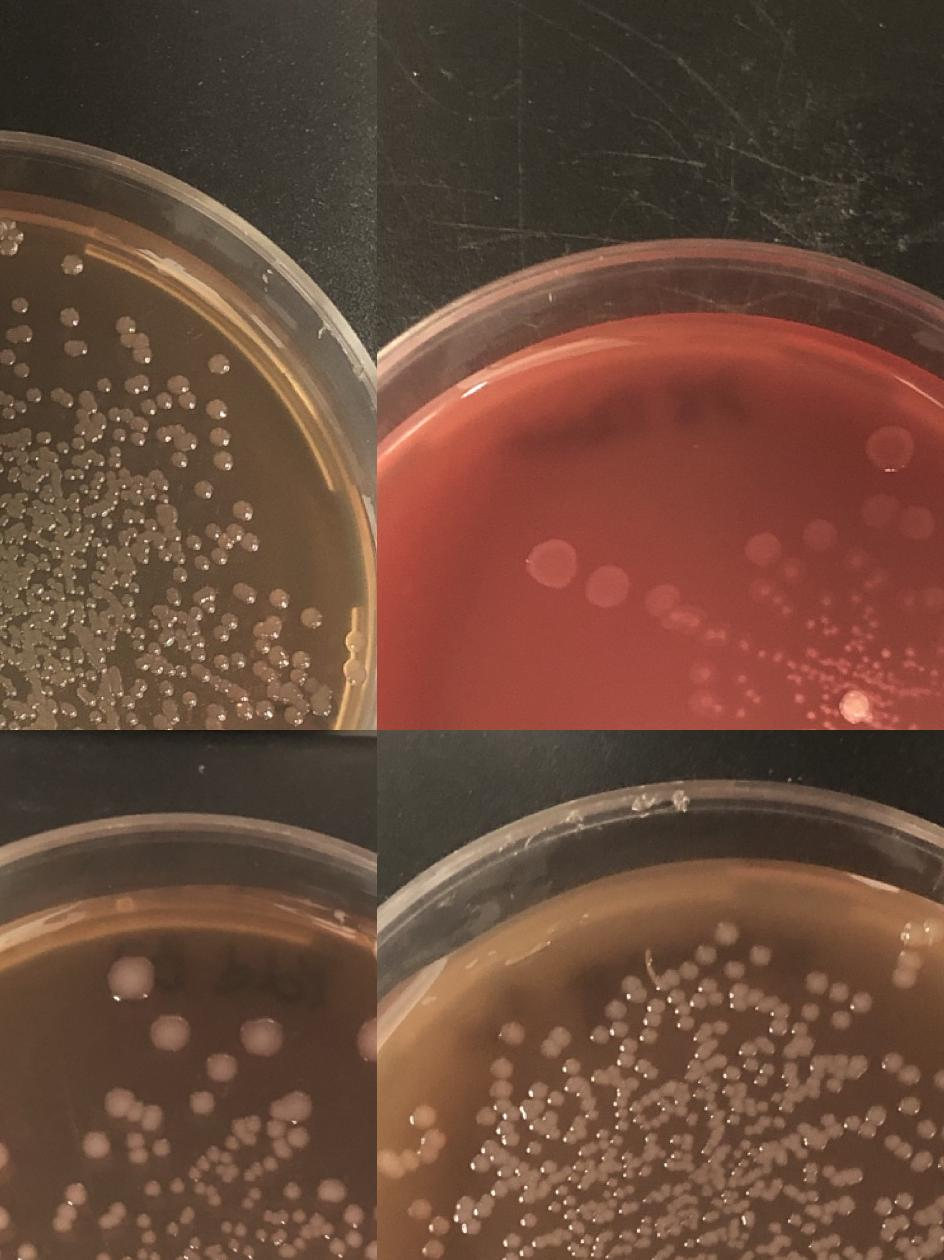pddamselae: (327, 1201, 377, 1260), (105, 952, 157, 1004), (238, 1011, 286, 1060), (48, 1180, 88, 1236), (150, 1011, 190, 1056), (354, 1012, 377, 1070), (103, 1086, 137, 1120), (203, 1052, 239, 1084), (242, 1154, 280, 1184), (80, 1130, 112, 1158), (124, 1130, 148, 1166), (134, 1210, 157, 1245), (186, 1088, 214, 1116), (286, 1124, 312, 1150), (187, 1166, 207, 1196), (240, 1186, 262, 1212), (220, 1219, 248, 1238), (16, 1240, 38, 1260), (281, 1181, 303, 1201), (242, 1114, 264, 1134), (107, 1200, 127, 1220), (142, 1178, 162, 1198), (166, 1176, 186, 1196), (152, 1138, 172, 1158), (0, 1203, 12, 1234), (205, 1144, 223, 1164), (135, 1248, 162, 1260), (253, 1226, 269, 1244), (164, 1222, 180, 1238), (292, 1208, 308, 1224), (84, 1251, 111, 1260), (242, 1244, 256, 1260), (292, 1236, 306, 1251)
tmaritimum: (585, 563, 635, 613), (529, 538, 579, 588), (864, 422, 914, 472), (752, 582, 797, 622), (745, 532, 781, 568), (803, 518, 839, 554), (899, 506, 935, 542), (860, 491, 896, 527), (817, 591, 840, 637), (672, 604, 700, 632), (648, 584, 676, 612), (784, 658, 816, 680), (921, 584, 944, 611), (818, 672, 838, 702), (932, 607, 944, 657), (836, 640, 852, 676), (864, 601, 880, 632), (703, 624, 730, 642), (871, 662, 895, 680), (899, 591, 919, 611), (782, 562, 802, 582), (845, 549, 865, 569), (900, 659, 924, 674), (869, 570, 889, 588), (744, 688, 762, 705), (855, 644, 870, 664), (878, 645, 892, 662), (806, 645, 820, 662), (753, 645, 767, 662), (734, 706, 748, 722), (713, 700, 727, 716), (792, 690, 806, 706), (696, 666, 710, 682), (847, 620, 861, 636), (735, 670, 749, 685), (801, 617, 815, 632), (849, 591, 863, 606), (698, 693, 710, 710), (772, 649, 784, 666), (737, 638, 751, 652), (822, 720, 838, 730)
vangil: (284, 648, 334, 726), (193, 522, 259, 572), (253, 616, 289, 676), (118, 316, 154, 365), (2, 387, 44, 422), (0, 216, 25, 257), (168, 374, 196, 410), (121, 580, 142, 620), (140, 392, 173, 417), (212, 613, 240, 642), (49, 386, 75, 410), (213, 654, 247, 672), (232, 582, 258, 605), (124, 373, 150, 395), (6, 325, 33, 345), (125, 712, 150, 730), (254, 700, 274, 720), (300, 608, 320, 628), (194, 480, 214, 500), (206, 399, 226, 419), (118, 526, 140, 544), (232, 500, 251, 520), (214, 452, 234, 471), (210, 428, 230, 447), (269, 590, 289, 608), (151, 712, 169, 730), (171, 566, 189, 584), (110, 427, 128, 445), (96, 376, 114, 394), (12, 363, 30, 381), (63, 340, 81, 358), (11, 296, 29, 314), (122, 512, 145, 526), (180, 691, 198, 708), (171, 452, 189, 469), (130, 430, 148, 447), (190, 646, 206, 664), (166, 587, 182, 605), (186, 535, 202, 552), (0, 349, 15, 367), (138, 544, 150, 566), (70, 512, 82, 534), (133, 626, 147, 640), (203, 601, 217, 615), (100, 516, 114, 530), (87, 488, 101, 502), (121, 694, 134, 708), (145, 518, 158, 532), (132, 494, 146, 507), (90, 710, 102, 724), (76, 584, 88, 598), (60, 647, 72, 659), (10, 636, 22, 648), (85, 598, 97, 610), (66, 568, 78, 580), (51, 566, 63, 578), (77, 558, 89, 570), (38, 551, 50, 563), (160, 550, 172, 562), (154, 538, 166, 550), (84, 522, 96, 534), (84, 506, 96, 518), (69, 492, 81, 504), (18, 491, 30, 503), (7, 721, 19, 730), (0, 442, 4, 456)
vharveyi: (588, 994, 665, 1070), (802, 968, 876, 1031), (662, 941, 719, 1009), (405, 1194, 451, 1236), (842, 1104, 888, 1140), (881, 1051, 923, 1087), (488, 1055, 516, 1106), (872, 1188, 916, 1219), (689, 976, 725, 1011), (539, 1024, 572, 1061), (397, 1144, 440, 1172), (527, 1080, 564, 1108), (744, 938, 774, 966), (720, 957, 750, 984), (884, 1133, 912, 1161), (408, 1104, 436, 1132), (498, 1020, 526, 1048), (713, 920, 741, 948), (890, 962, 918, 988), (894, 1235, 923, 1260), (623, 974, 645, 1005), (912, 1116, 936, 1140), (898, 1094, 922, 1118), (610, 1119, 630, 1147), (800, 1001, 824, 1023), (723, 1064, 742, 1084), (503, 1232, 521, 1252), (520, 1212, 538, 1232), (805, 1200, 823, 1220), (837, 1194, 855, 1214), (914, 1148, 932, 1168), (525, 1138, 543, 1158), (808, 1130, 826, 1150), (850, 1052, 868, 1072), (739, 1040, 757, 1060), (678, 1014, 696, 1034), (932, 1065, 944, 1093), (820, 1162, 838, 1180)
